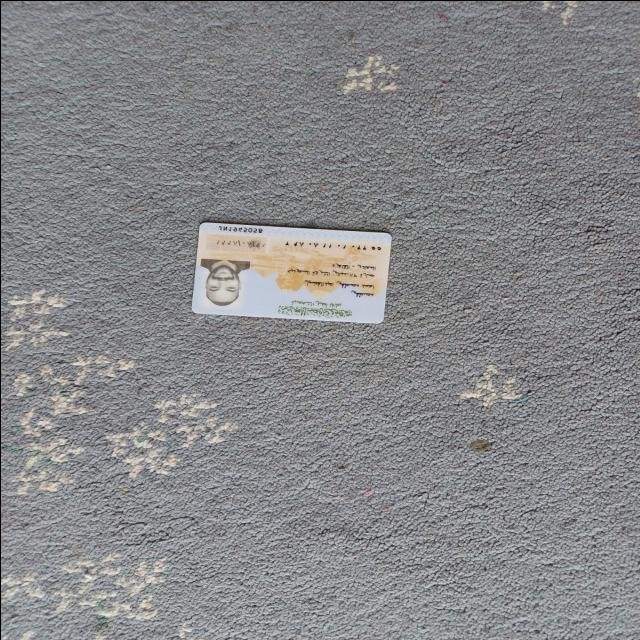id_card: (186, 213, 397, 329)
